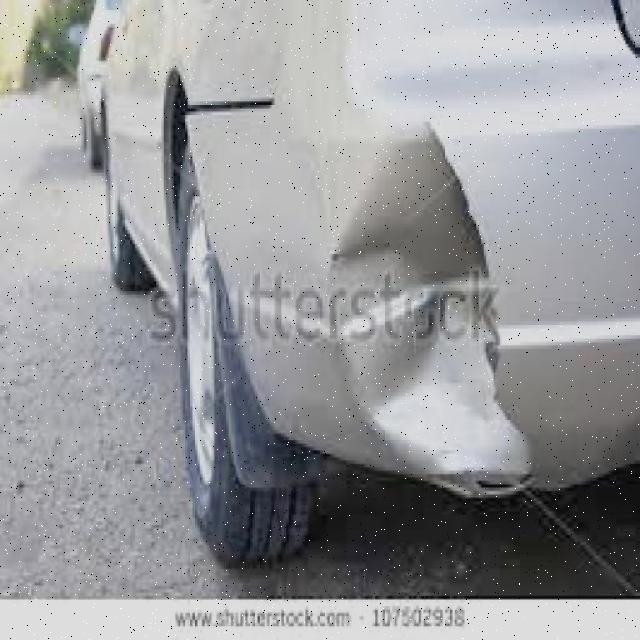car damage: (319, 110, 547, 502)
